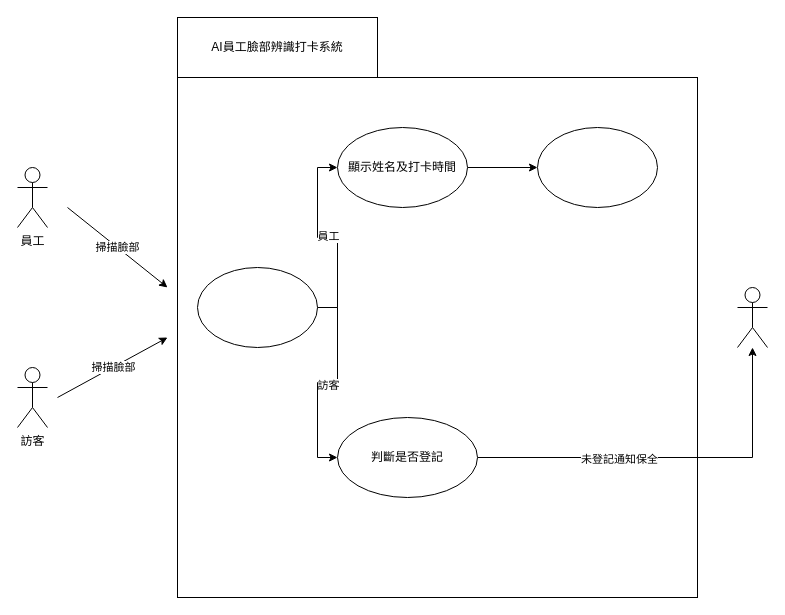
This 785x615 diagram has some shape labels left out. Here are the shapes that lost their labels. From the top down, the box of each, then its label:
(536, 126, 658, 208): 判斷準時或遲到
(196, 266, 318, 348): 分辨員工或是訪客
(736, 286, 768, 348): 保全
